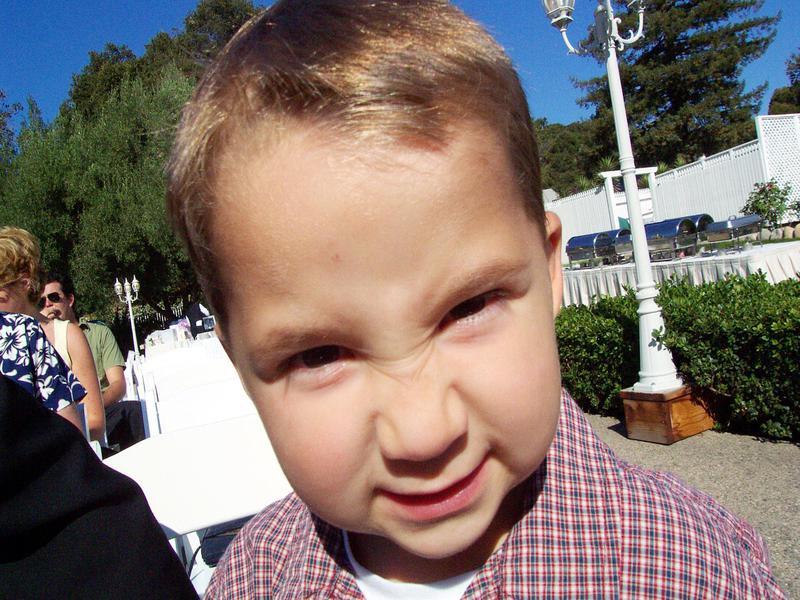person: (174, 1, 791, 600), (1, 225, 103, 437), (46, 276, 125, 408)
